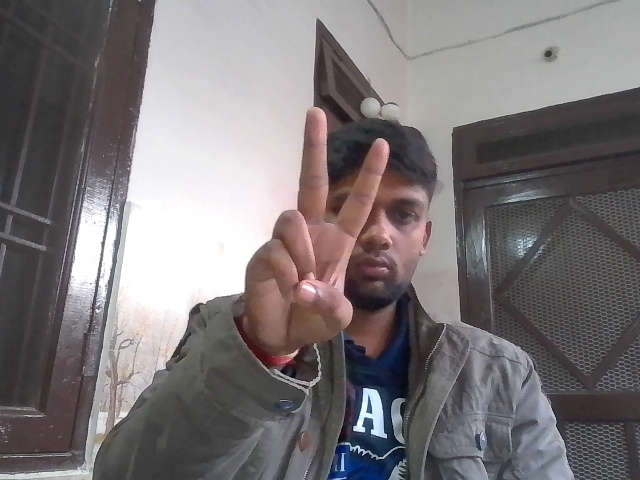Enjoy: (240, 100, 391, 348)
